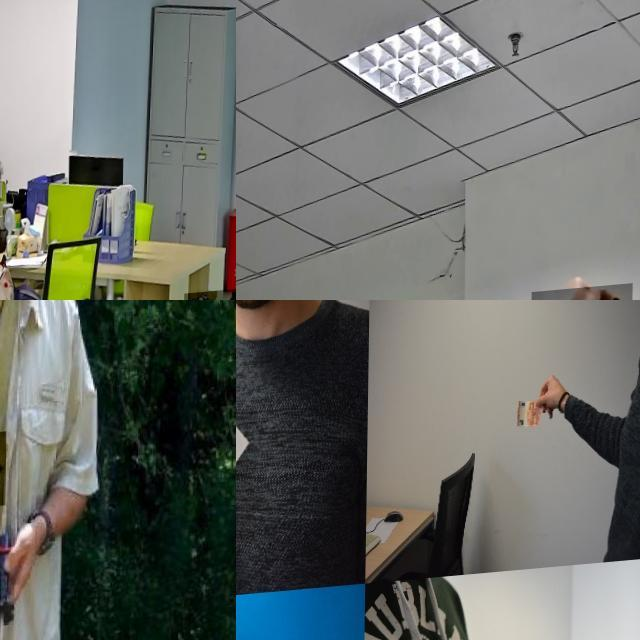-: (0, 438, 62, 521)
